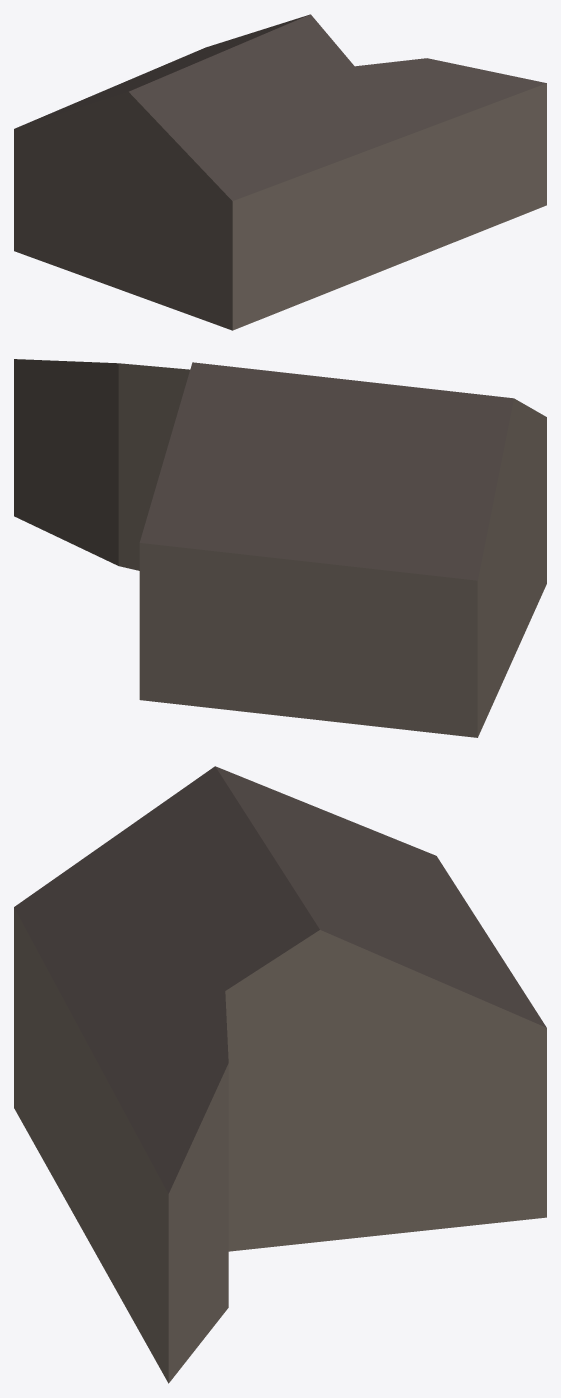
3 renders of one model, top to bottom at view 1: azimuth 30°, elevation 25°; view 2: azimuth 150°, elevation 25°; view 3: azimuth 270°, elevation 25°, orthographic. The views are drawn at different scales.
Parts seen in each view (by area): view 1: HP-w756797949; view 2: HP-w756797949; view 3: HP-w756797949.
Boxes of the visible parts, bbox=[...] form: HP-w756797949: bbox=[14, 14, 546, 330]; HP-w756797949: bbox=[14, 359, 546, 737]; HP-w756797949: bbox=[14, 766, 546, 1383].
Bounding box in the file's own units: 34.44 × 14.81 × 22.93.
